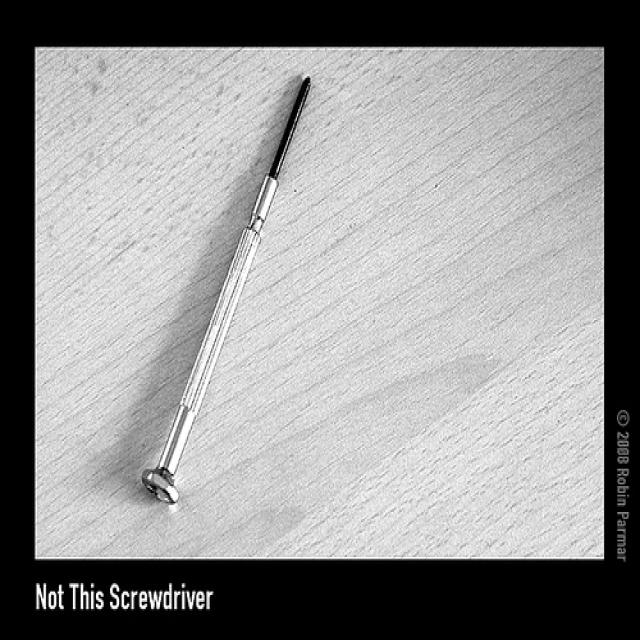screw driver: (112, 60, 360, 538)
